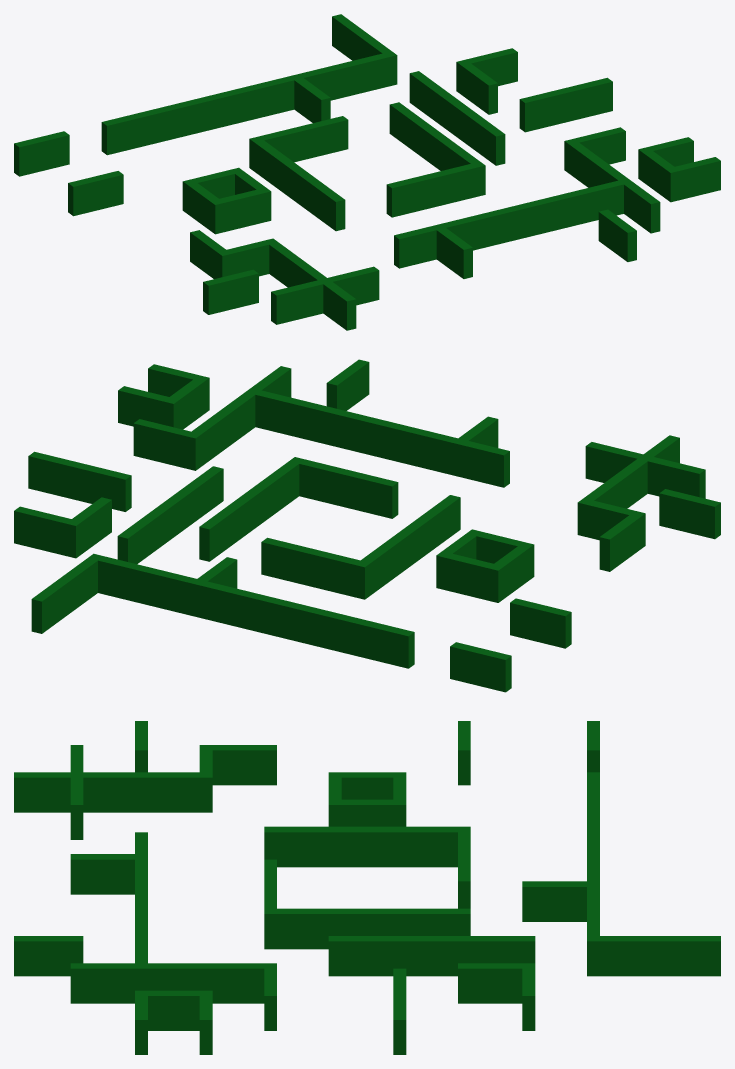
The model's file is TrayInnerWalls2.FBX.
The picture shows the model from 3 angles, top to bottom: view 1: azimuth 30°, elevation 25°; view 2: azimuth 150°, elevation 25°; view 3: azimuth 270°, elevation 25°; orthographic projection. The views are drawn at different scales.
Visible parts, largest first — view 1: Walls; view 2: Walls; view 3: Walls.
Part boxes in pixels (box(x1,y1,x2,y2)): Walls: box(14, 14, 720, 330); Walls: box(14, 359, 720, 692); Walls: box(14, 721, 720, 1054).
Bounding box in the file's own units: 548 × 30 × 549.
